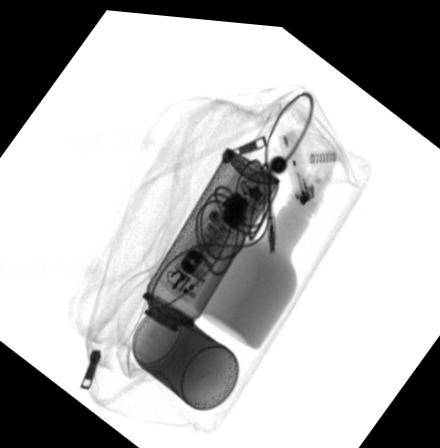Lighter: (277, 122, 317, 203)
Sprayer: (118, 142, 280, 364)
